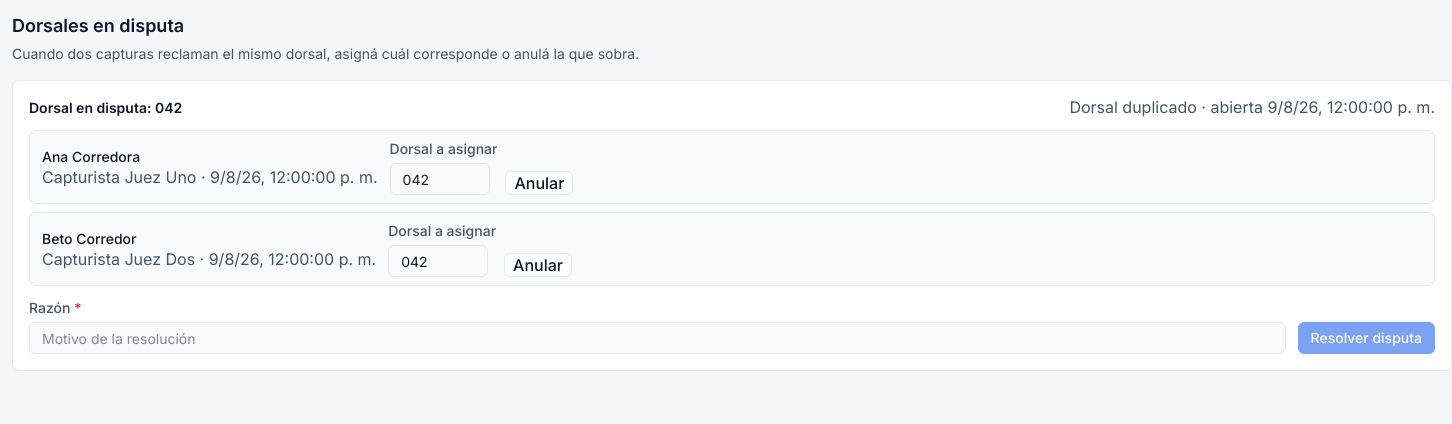
ResultDisputesPage API smoke › resolve failure keeps the group visible with an error
Expected: the text "Ana Corredora" is shown, left=42, top=148, right=140, bottom=165
Type "Intento fallido" into the field labelled "Razón". click: (657, 338)
box: left=29, top=322, right=1286, bottom=354
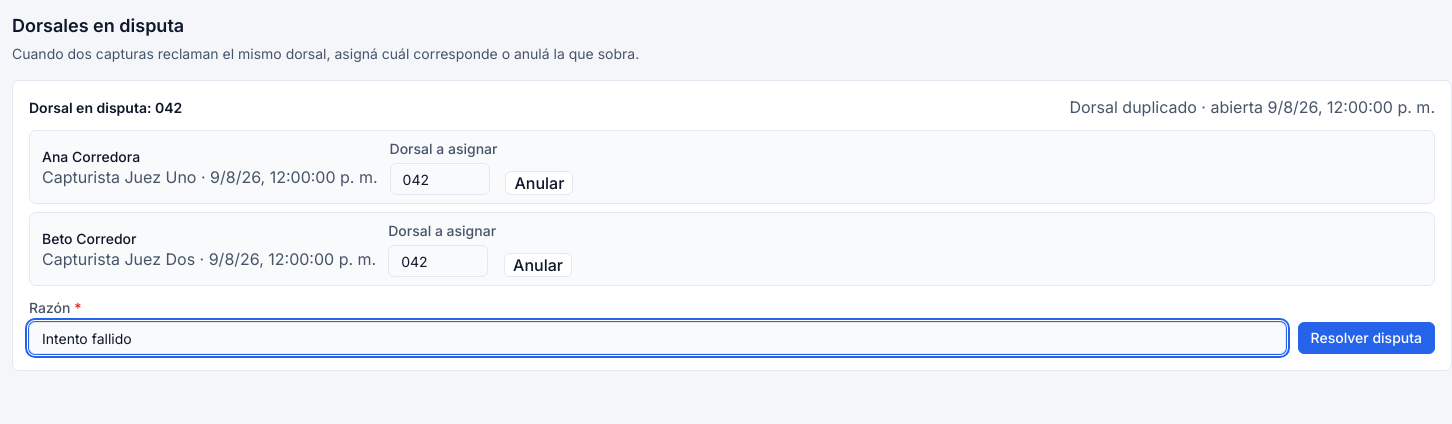
Click the button "Resolver disputa". click: (1366, 338)
box: left=1298, top=322, right=1435, bottom=354
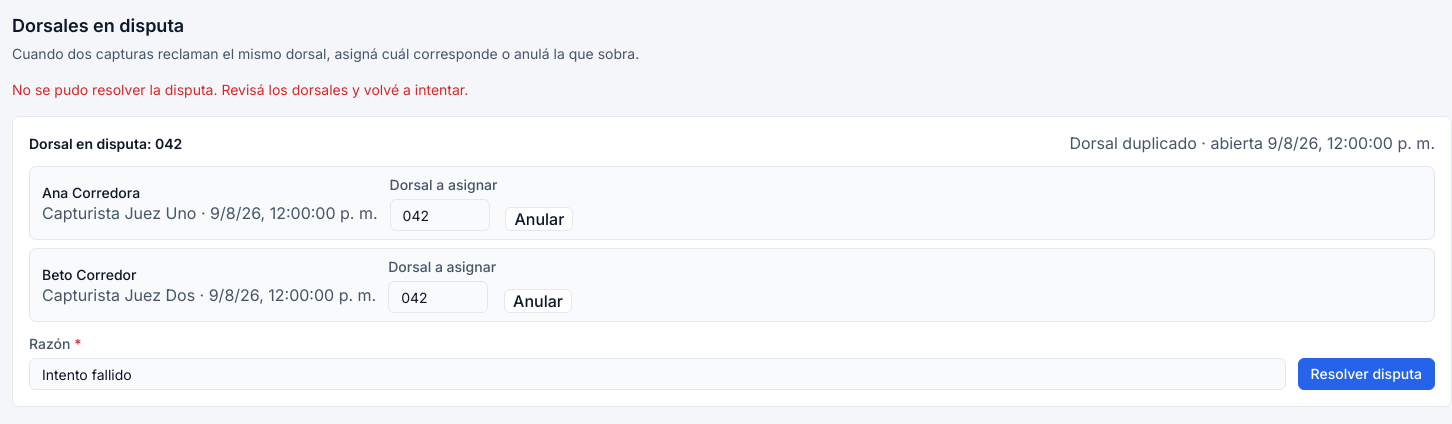
Expected: the text "Ana Corredora" is shown, left=42, top=184, right=140, bottom=201
Expected: the text "No se pudo resolver la disputa. Revisá los dorsales y volvé a intentar." is shown, left=12, top=81, right=468, bottom=98
